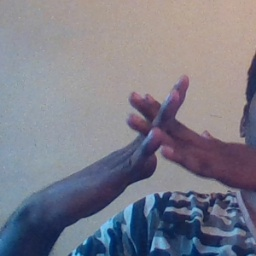W: (106, 70, 220, 201)
